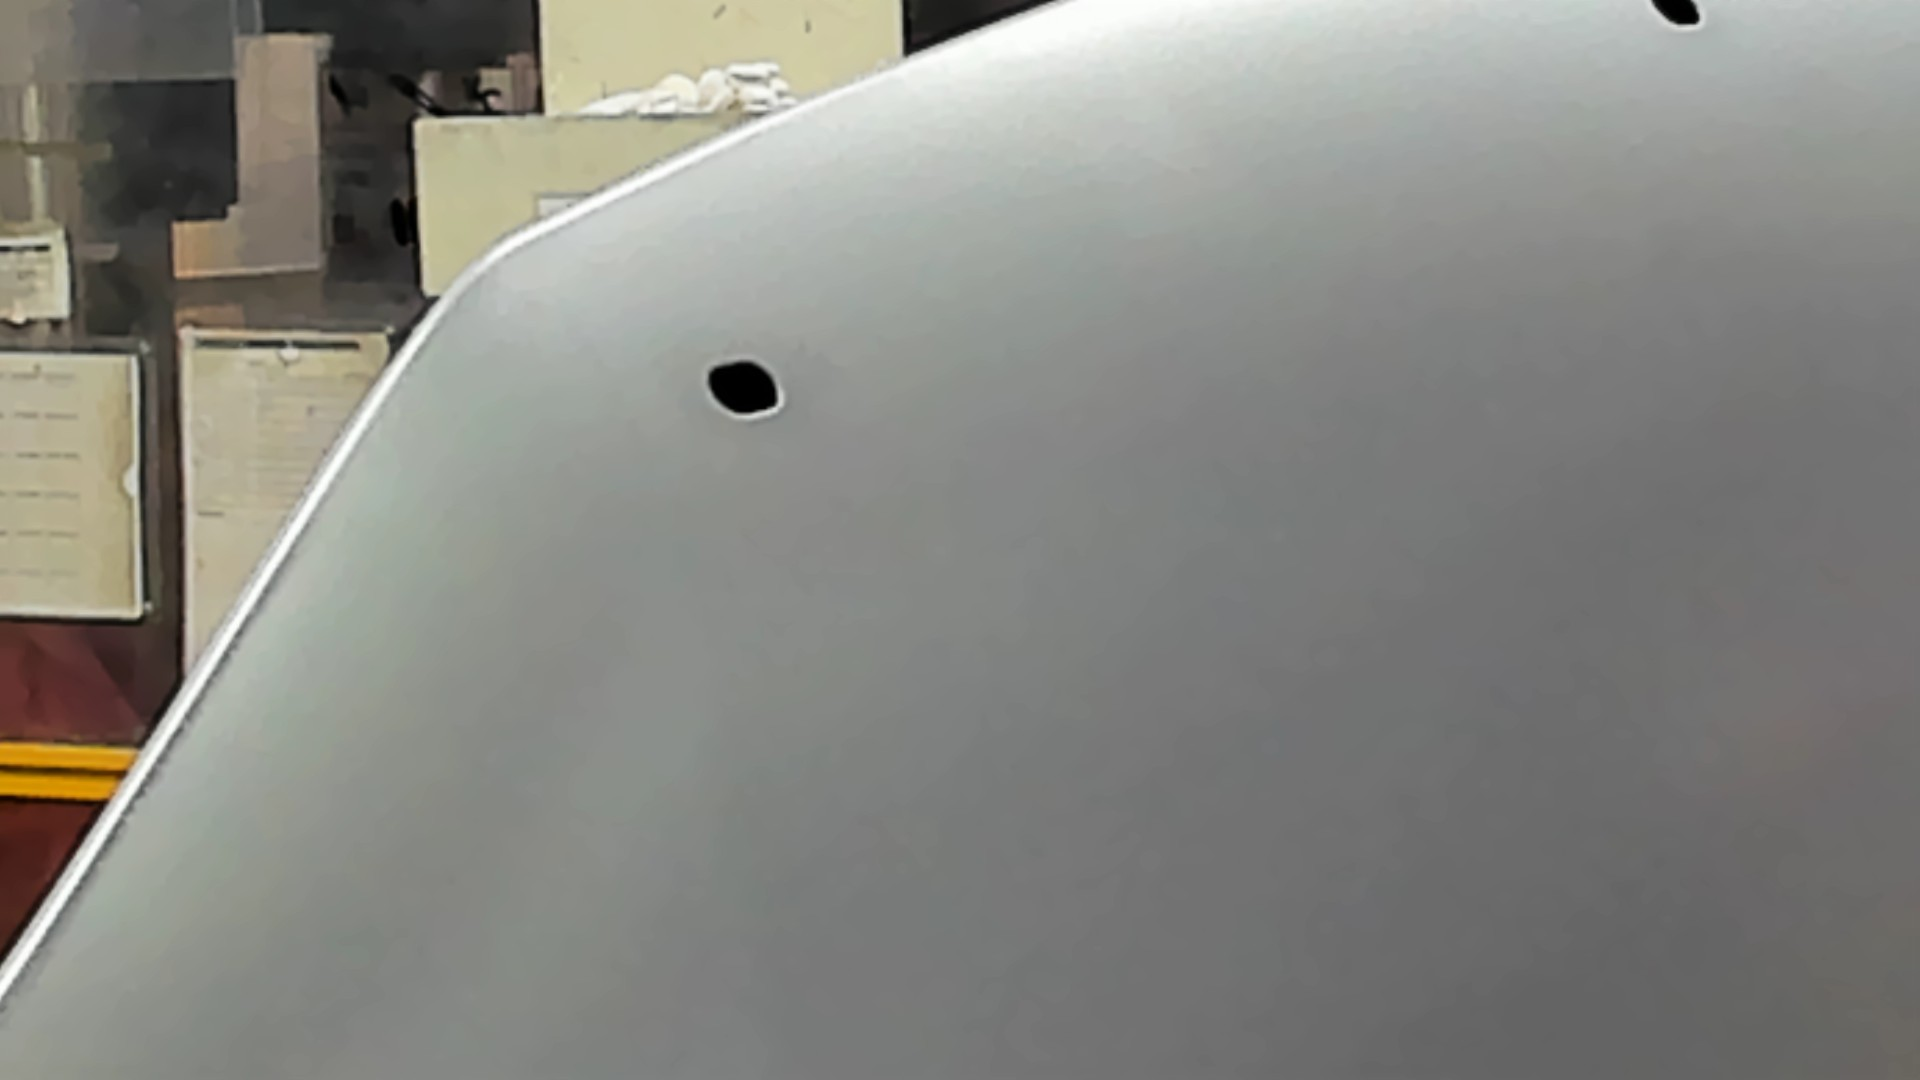amorfo: (705, 353, 789, 429), (1636, 1, 1721, 26)
capo: (920, 92, 1920, 1080)
